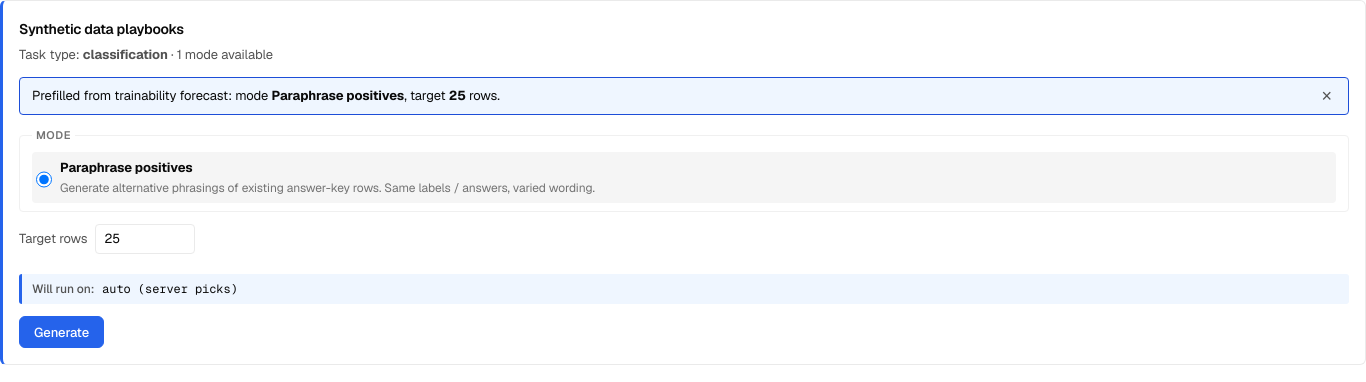
Scenario: PlaybookPickerPanel › dismisses the prefill banner when the dismiss button is clicked
Expected: the message with test id "playbook-picker-prefill-banner" is shown, [19,77,1349,115]
Click the button with test id "playbook-picker-prefill-dismiss" at x=1327, y=96, box [1318,87,1336,105]
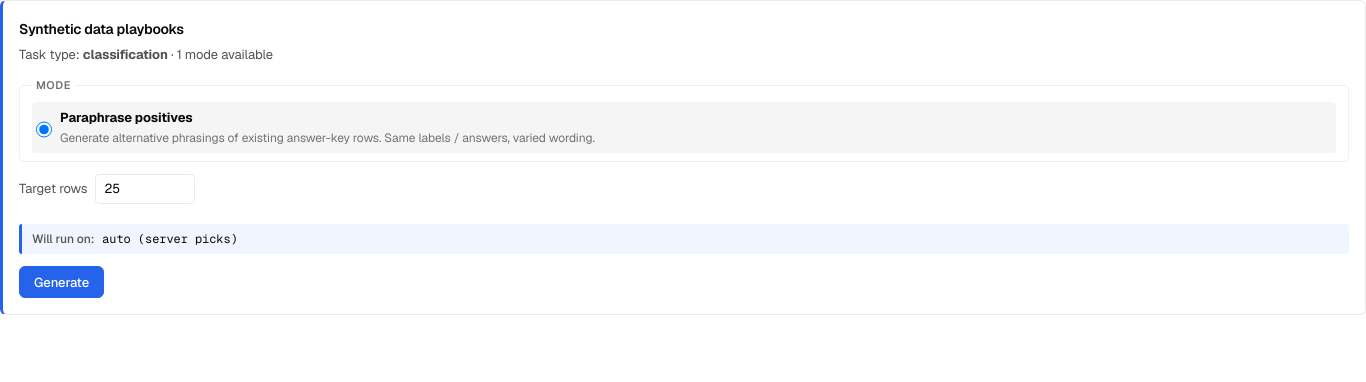
Expected: the message with test id "playbook-picker-prefill-banner" is gone
